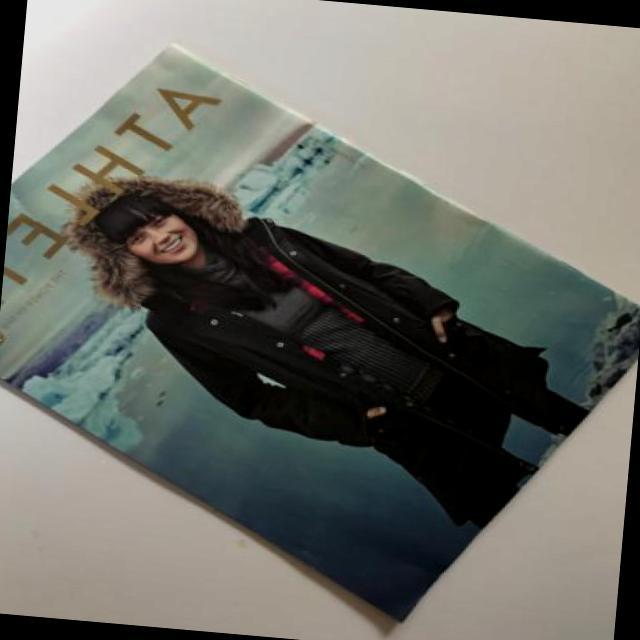paper: (0, 57, 640, 628)
